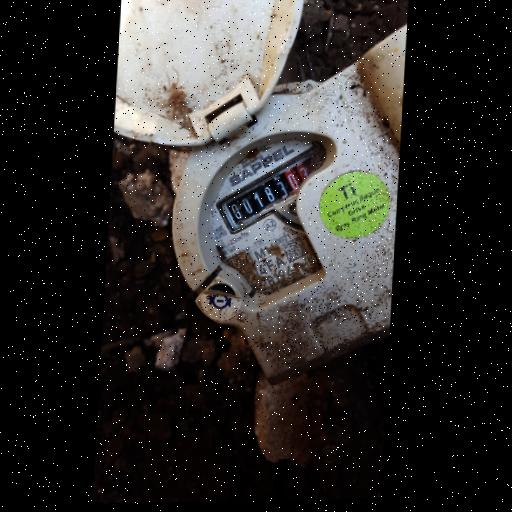0: (280, 165, 306, 196), (234, 191, 259, 220), (224, 197, 248, 226)
1: (246, 184, 270, 214)
3: (268, 172, 293, 203), (292, 159, 315, 184)
8: (256, 178, 281, 208)
border_water_meter_number: (213, 141, 338, 240)
